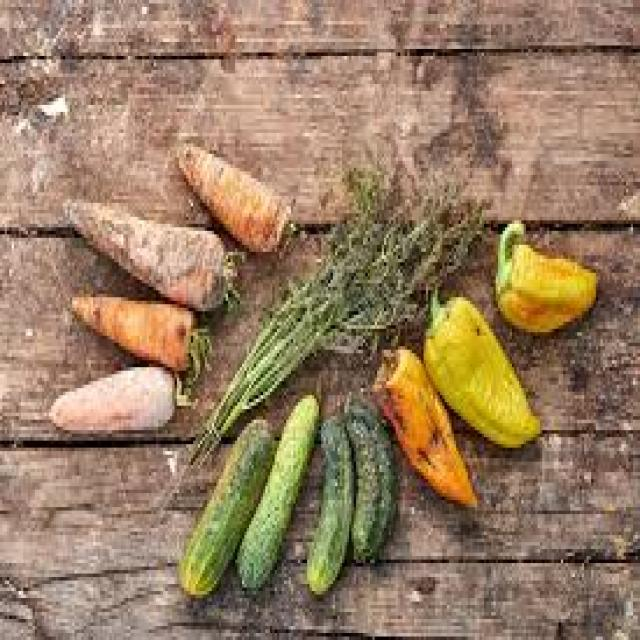Stale_Carrot: (60, 189, 226, 290), (171, 129, 302, 243), (62, 298, 205, 370), (42, 375, 186, 441)
